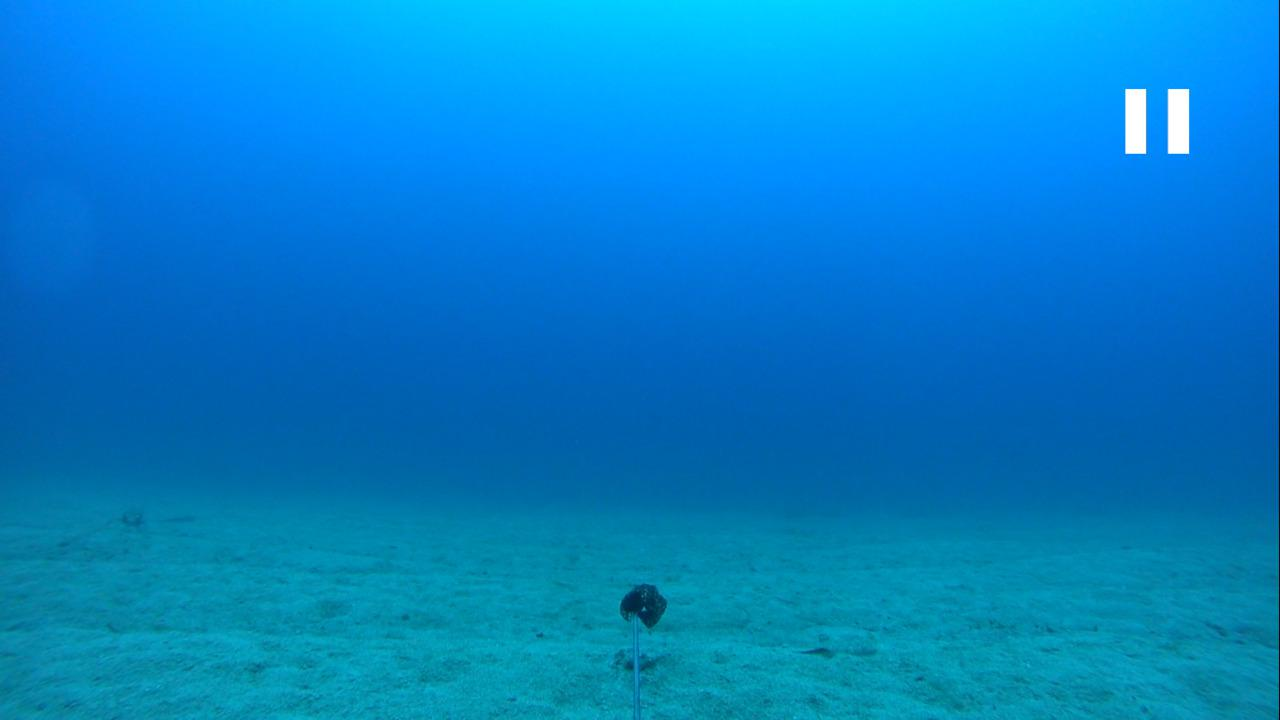bothus: (791, 638, 880, 656)
dactylopterus: (109, 500, 201, 543)
